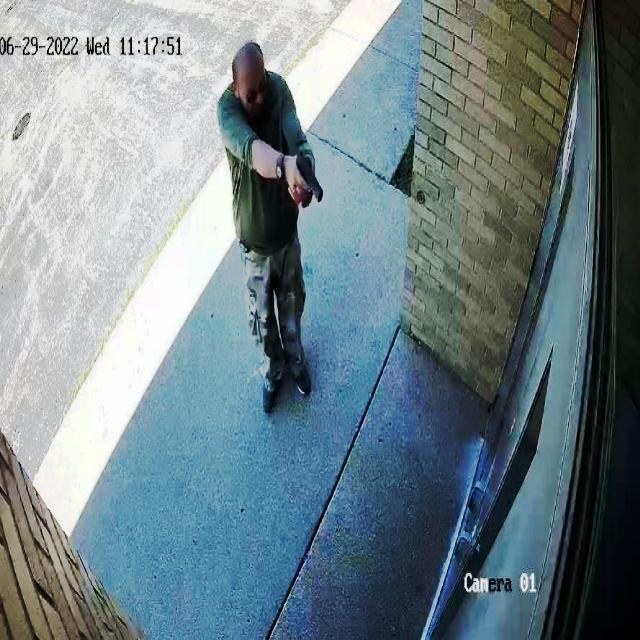Gun: (287, 144, 335, 208)
